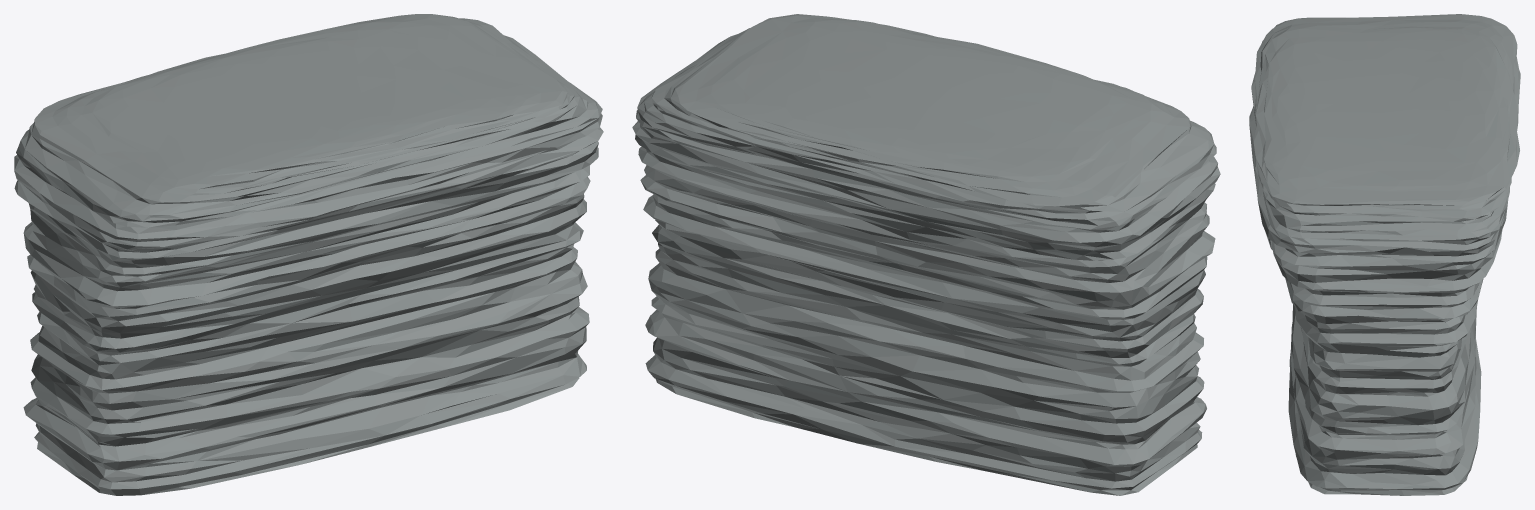
Rendered from mesh_rock_huge_06.fbx.
The picture shows the model from 3 angles, left to right: view 1: azimuth 30°, elevation 25°; view 2: azimuth 150°, elevation 25°; view 3: azimuth 270°, elevation 25°; orthographic projection. The views are drawn at different scales.
Parts seen in each view (by area): view 1: mesh_rock_huge_06_LOD0; view 2: mesh_rock_huge_06_LOD0; view 3: mesh_rock_huge_06_LOD0.
Boxes of the visible parts, left/top/right/bottom form: mesh_rock_huge_06_LOD0: left=14, top=14, right=603, bottom=495; mesh_rock_huge_06_LOD0: left=632, top=14, right=1220, bottom=495; mesh_rock_huge_06_LOD0: left=1249, top=14, right=1520, bottom=495.
Size of what is drawn, in the model's own units: 14.6 by 8.7 by 7.44.
